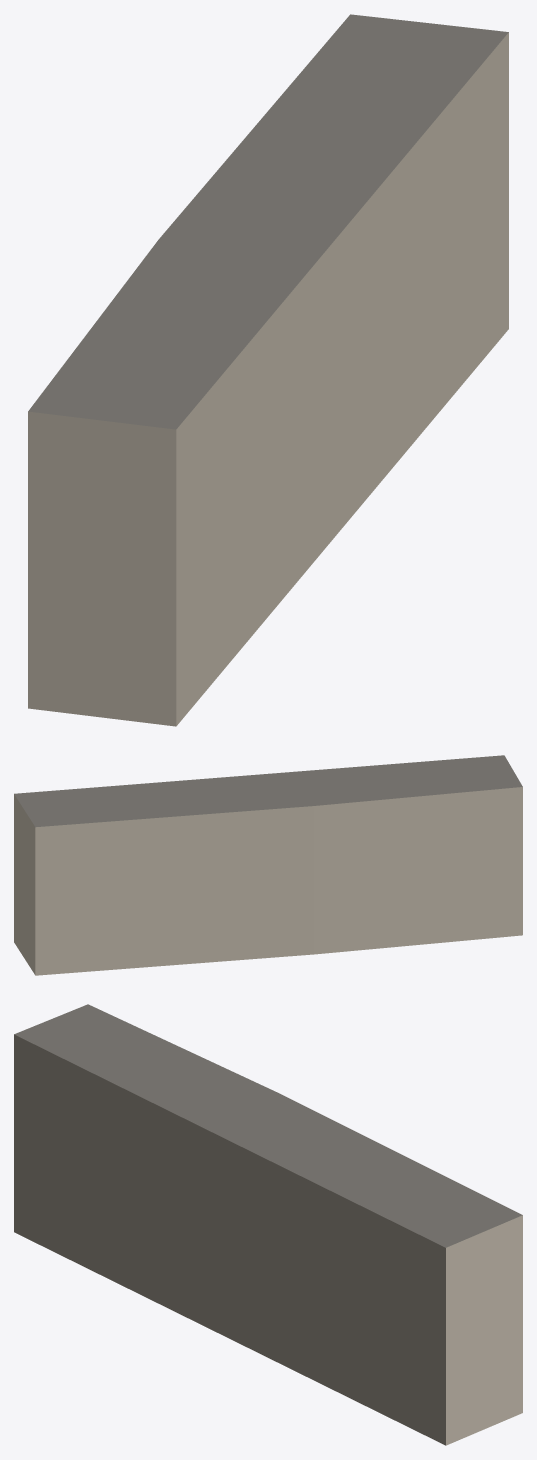
3 renders of one model, top to bottom at view 1: azimuth 30°, elevation 25°; view 2: azimuth 150°, elevation 25°; view 3: azimuth 270°, elevation 25°, orthographic. The views are drawn at different scales.
Visible parts, largest first — view 1: HP-w729793775; view 2: HP-w729793775; view 3: HP-w729793775.
Part boxes in pixels (x1,y1,x2,y2): HP-w729793775: (28,14,508,726); HP-w729793775: (14,755,522,975); HP-w729793775: (14,1004,522,1445).
Size of the model in its own units: 47.54 by 18 by 41.97.
